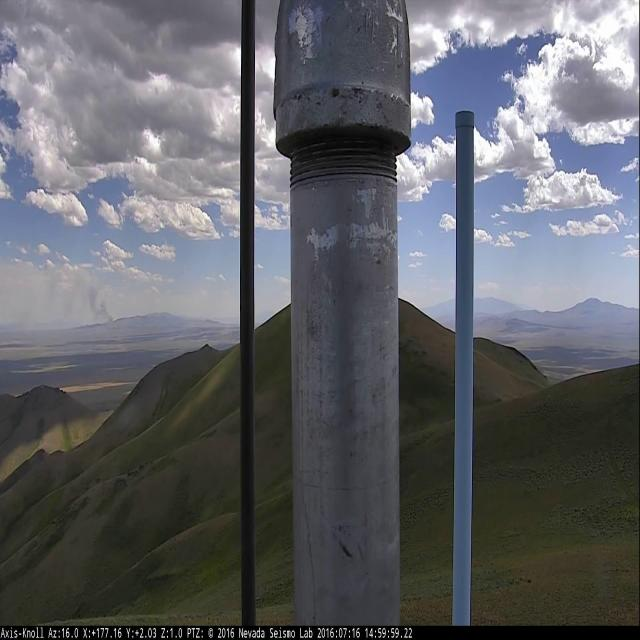smoke: (49, 275, 114, 324)
